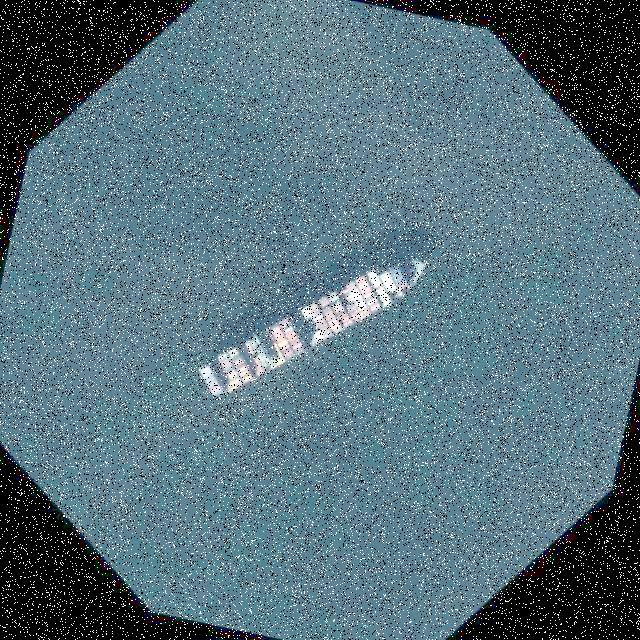ship: (198, 256, 428, 389)
